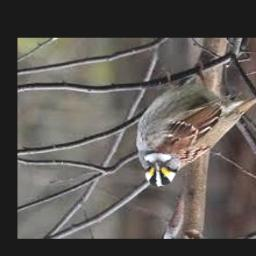Sparrow: (136, 70, 256, 187)
